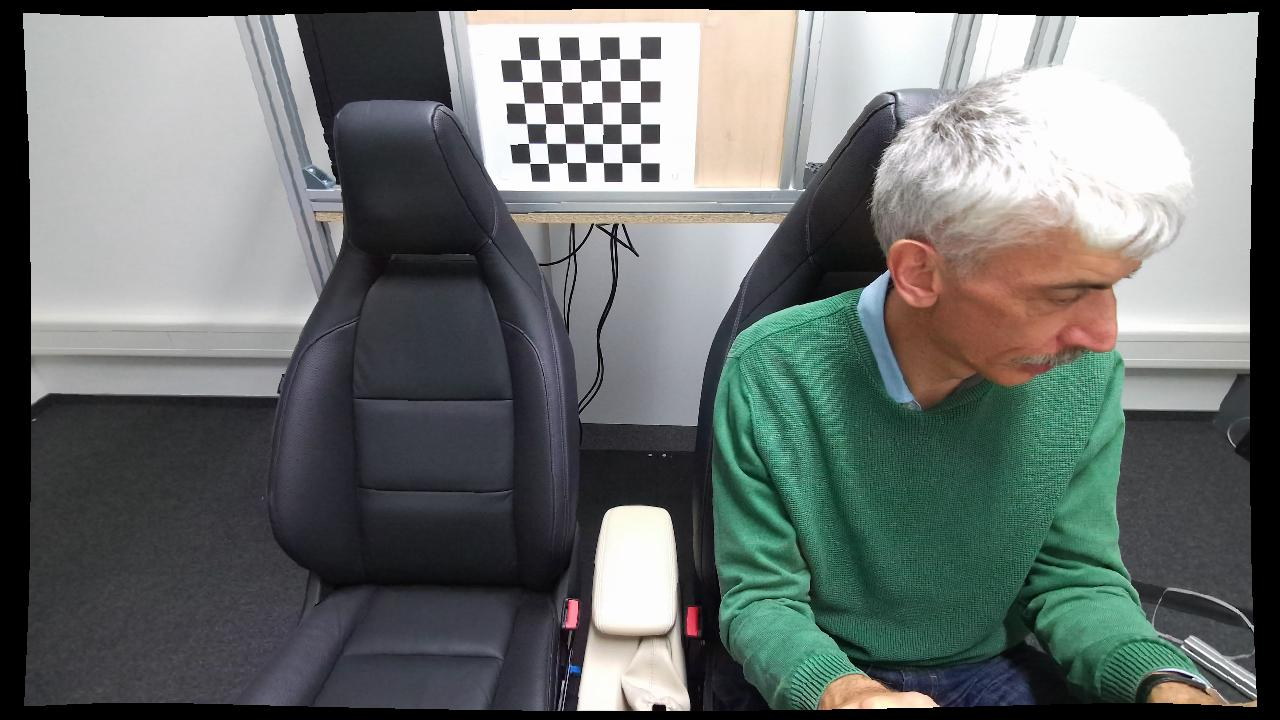Distracted: (712, 67, 1214, 710)
